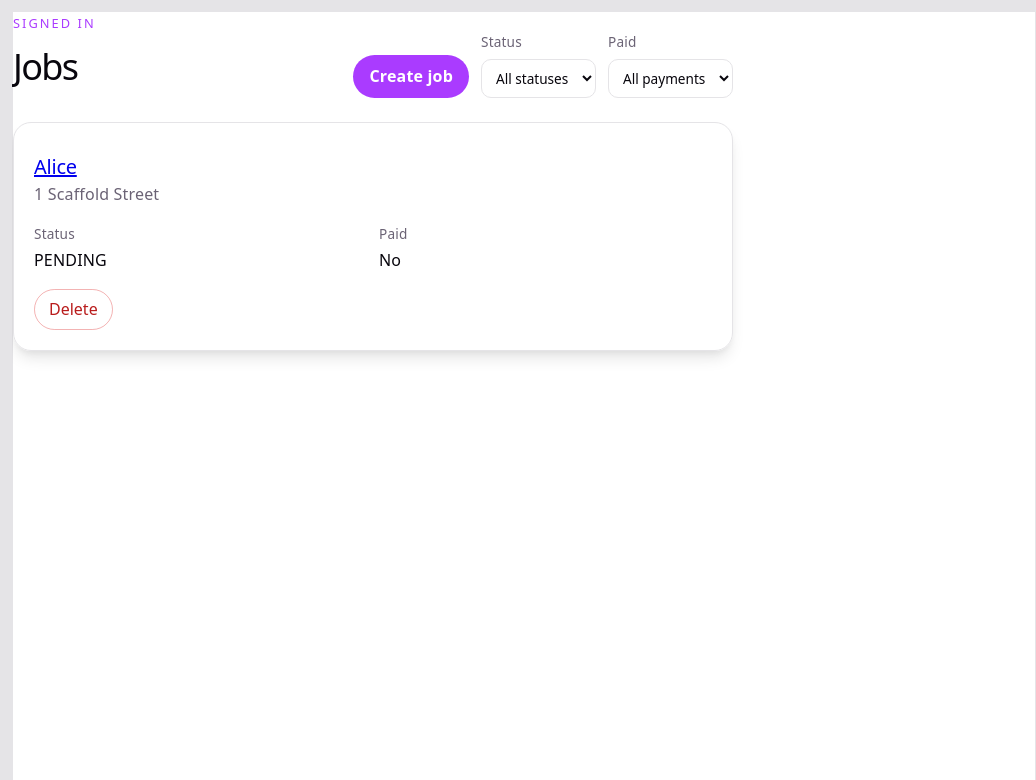
JobsView › shows delete errors after a confirmed delete fails
The image size is (1036, 780).
Step 1. Click the button with aria-label "Delete job for Alice" → click(73, 309), box [34,289,113,330]
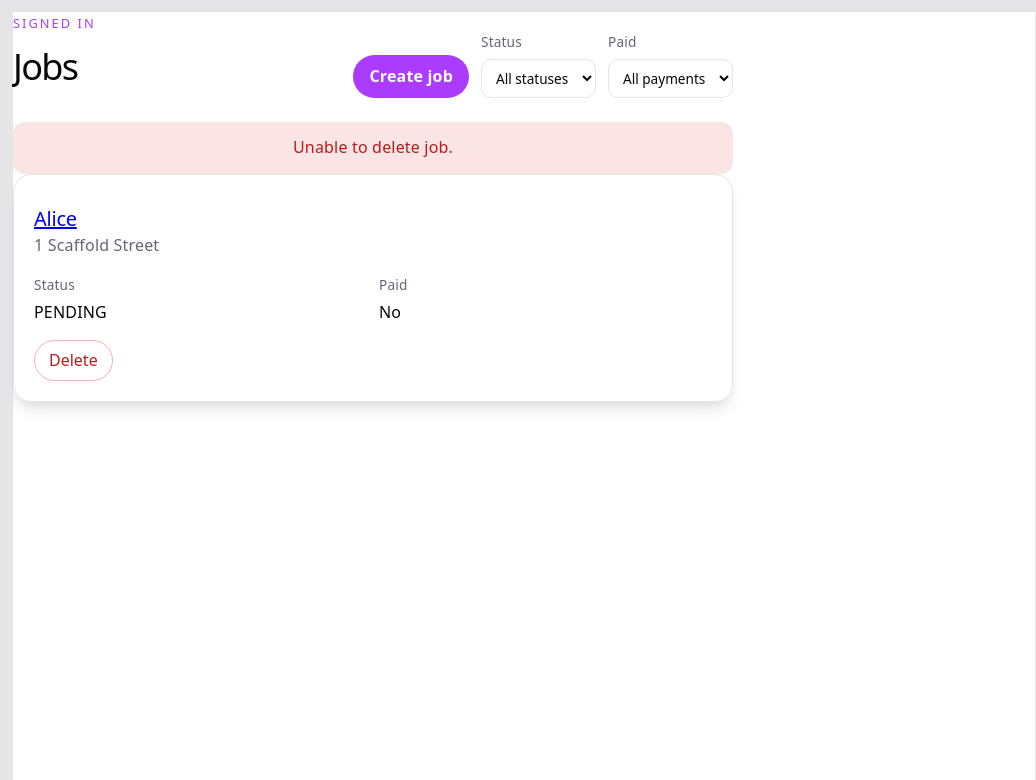
Check: the link "Alice" is shown, box [34,205,77,232]
Check: the text "Unable to delete job." is shown, box [13,122,733,174]
